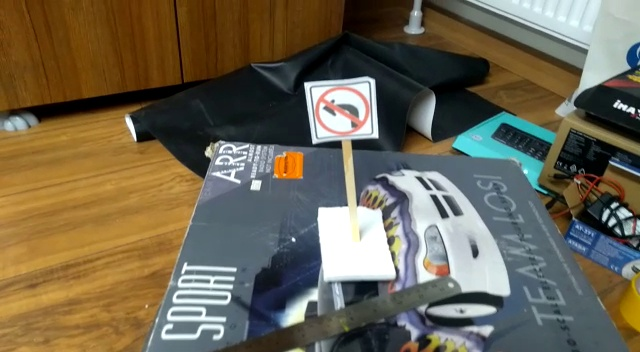sola_donulmez: (309, 82, 375, 135)
